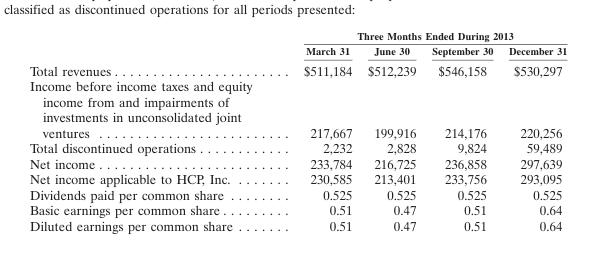table: (28, 28, 566, 233)
table column: (28, 28, 277, 233), (277, 28, 359, 233), (423, 28, 500, 233), (500, 28, 566, 233), (359, 28, 423, 233)
table column header: (28, 28, 566, 59)
table row: (28, 78, 566, 140), (28, 59, 566, 78), (28, 42, 566, 59), (28, 155, 566, 171), (28, 186, 566, 202), (28, 217, 566, 233), (28, 140, 566, 155), (28, 171, 566, 186), (28, 202, 566, 217), (28, 28, 566, 42)
table spanning cell: (277, 28, 566, 42)
